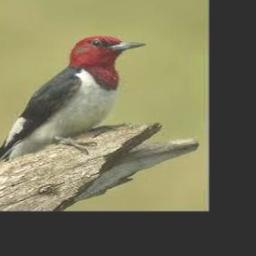Woodpecker: (0, 35, 147, 166)
